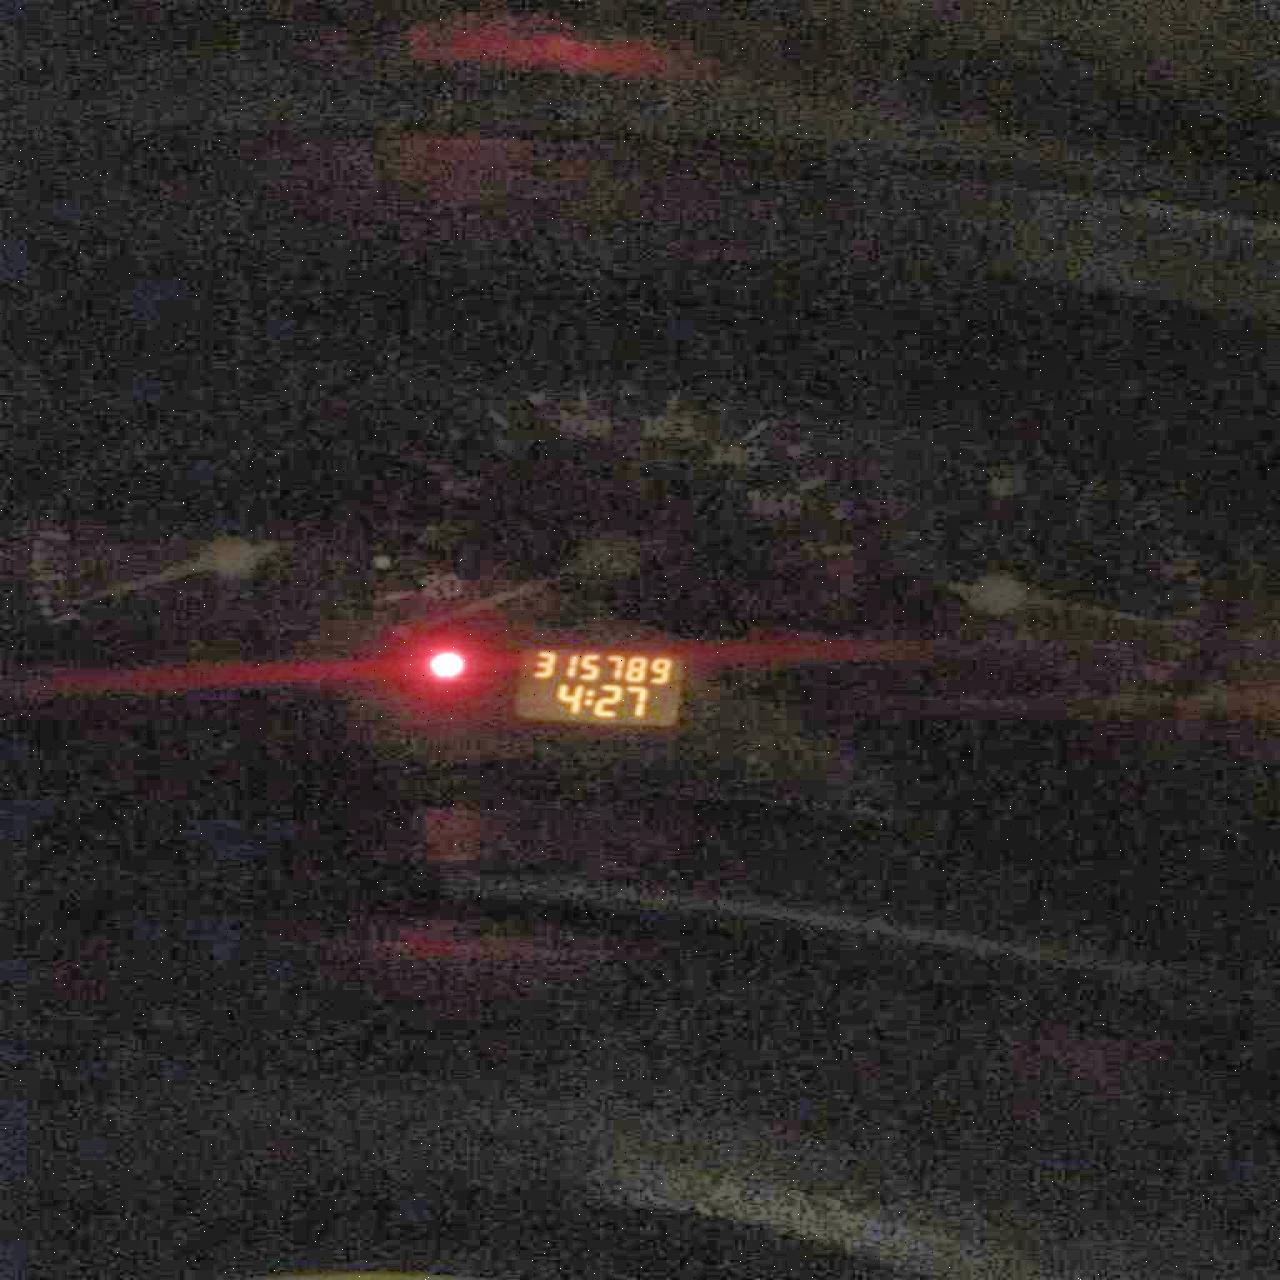1: (565, 654, 577, 678)
2: (592, 682, 621, 717)
3: (531, 651, 557, 678)
4: (557, 682, 584, 713)
5: (578, 654, 600, 680)
7: (624, 685, 647, 717), (604, 654, 624, 679)
8: (624, 655, 647, 681)
9: (648, 656, 672, 683)
X: (581, 688, 593, 707)
odometer: (509, 644, 687, 729)
